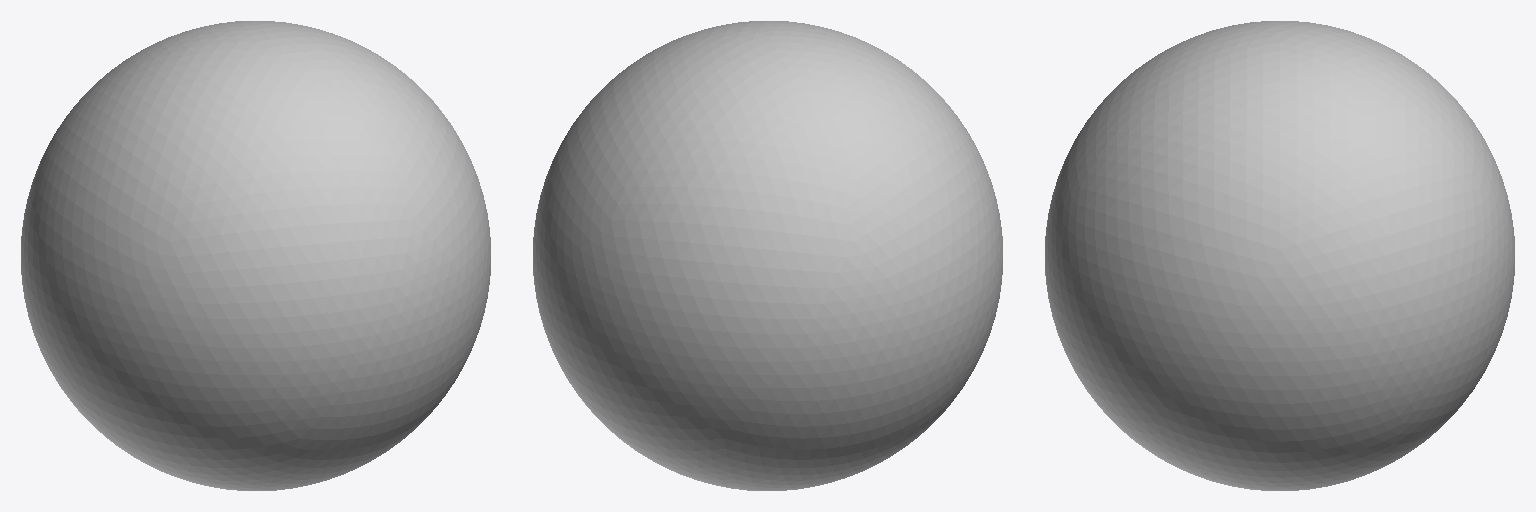
3 views of the same model, side by side, from view 1: azimuth 30°, elevation 25°; view 2: azimuth 150°, elevation 25°; view 3: azimuth 270°, elevation 25° (orthographic).
Parts seen in each view (by area): view 1: GeoSphere; view 2: GeoSphere; view 3: GeoSphere.
Part boxes in pixels (left/top/right/bottom): GeoSphere: left=21, top=21, right=490, bottom=490; GeoSphere: left=533, top=21, right=1002, bottom=490; GeoSphere: left=1045, top=21, right=1514, bottom=490.
Size of the model in its own units: 0.9994 by 1 by 0.9993.